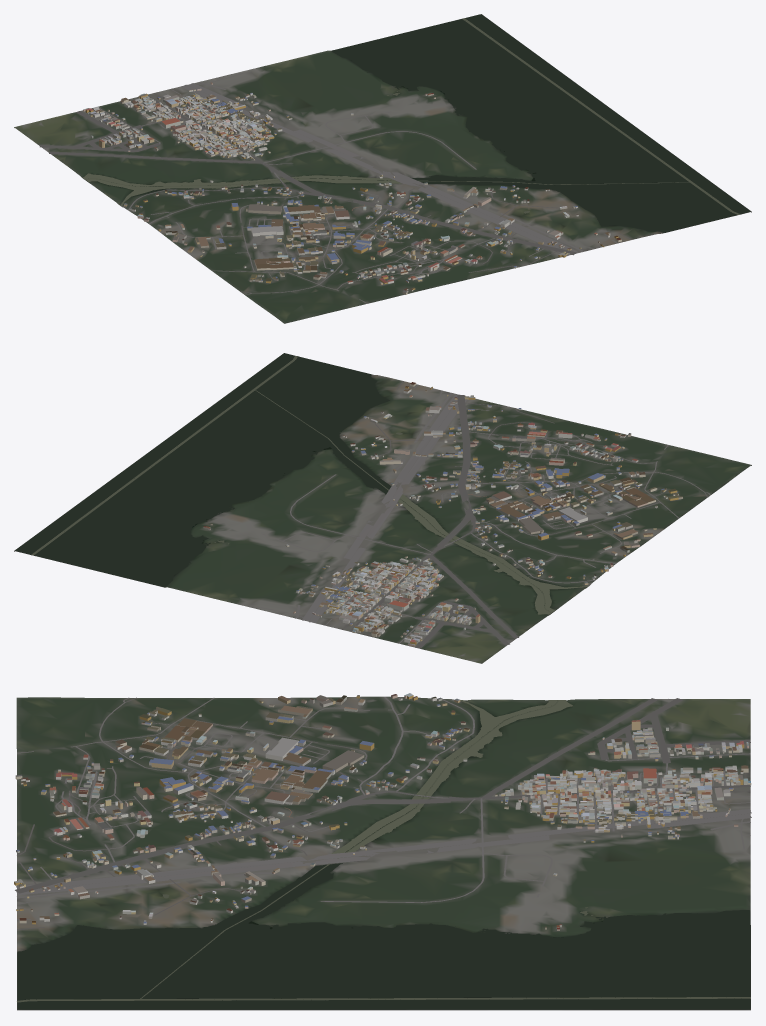
The picture shows the model from 3 angles, top to bottom: view 1: azimuth 30°, elevation 25°; view 2: azimuth 150°, elevation 25°; view 3: azimuth 270°, elevation 25°; orthographic projection. The views are drawn at different scales.
Parts seen in each view (by area): view 1: ground, water, buildings, roads; view 2: ground, water, buildings, roads; view 3: ground, water, buildings, roads.
Boxes of the visible parts, x1,y1,x2,y2 form: ground: (14,14,751,323); water: (82,14,750,232); buildings: (83,82,621,294); roads: (39,73,632,303); ground: (14,353,751,663); water: (15,353,588,614); buildings: (203,382,682,646); roads: (257,381,710,648); ground: (16,696,750,1010); water: (17,700,750,1009); buildings: (14,693,751,930); roads: (15,696,751,929).
Bounding box in the file's own units: 1405 × 24.03 × 1408.
